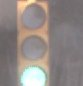Green: (10, 2, 52, 86)
